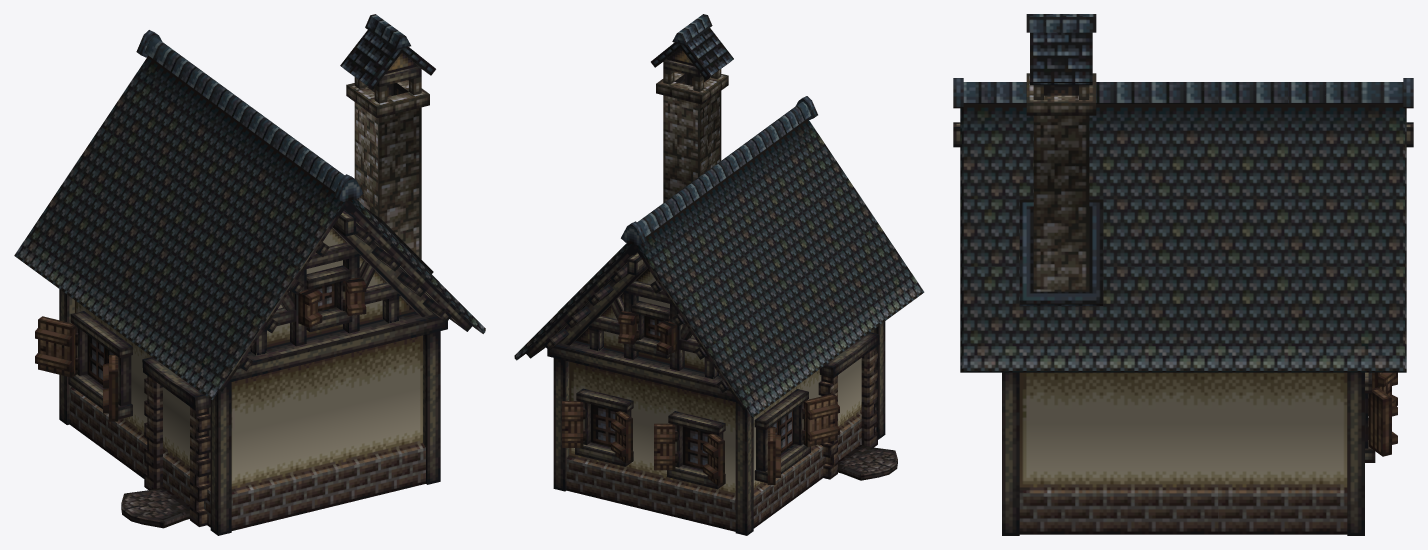
Rendered from EnvBdgMD_Mount_A_Outdoor_House_Priest.FBX.
The picture shows the model from 3 angles, left to right: view 1: azimuth 30°, elevation 25°; view 2: azimuth 150°, elevation 25°; view 3: azimuth 270°, elevation 25°; orthographic projection. The views are drawn at different scales.
Parts seen in each view (by area): view 1: EnvBdgMD_Mount_A_Outdoor_House_Priest; view 2: EnvBdgMD_Mount_A_Outdoor_House_Priest; view 3: EnvBdgMD_Mount_A_Outdoor_House_Priest.
Part boxes in pixels (bbox=[...]): EnvBdgMD_Mount_A_Outdoor_House_Priest: bbox=[14, 14, 485, 535]; EnvBdgMD_Mount_A_Outdoor_House_Priest: bbox=[514, 14, 924, 535]; EnvBdgMD_Mount_A_Outdoor_House_Priest: bbox=[953, 14, 1413, 535].
Bounding box in the file's own units: 569 × 800 × 660.
Materials: 1 (1 with a texture image).
